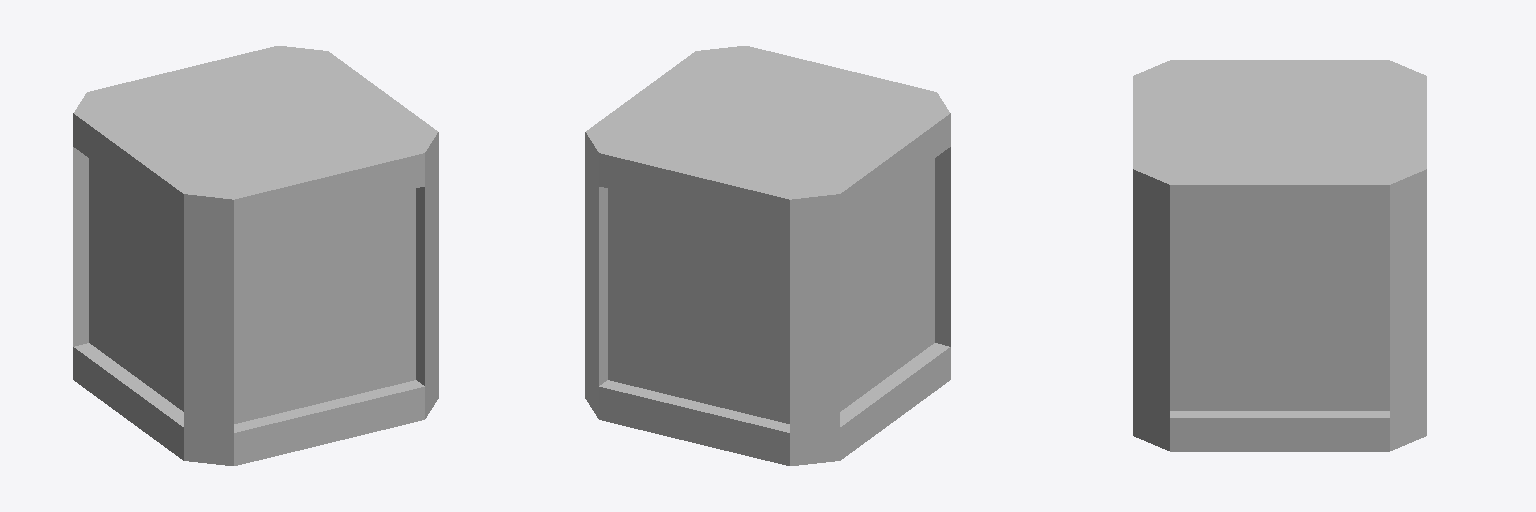
Rendered from powerup.obj.
3 views of the same model, side by side, from view 1: azimuth 30°, elevation 25°; view 2: azimuth 150°, elevation 25°; view 3: azimuth 270°, elevation 25° (orthographic).
Parts seen in each view (by area): view 1: Texture_640; view 2: Texture_640; view 3: Texture_640.
Boxes of the visible parts, x1=… form: Texture_640: x1=73, y1=46, x2=438, y2=465; Texture_640: x1=585, y1=46, x2=950, y2=465; Texture_640: x1=1133, y1=60, x2=1426, y2=451.
Size of the model in its own units: 23.91 by 23.91 by 23.87.